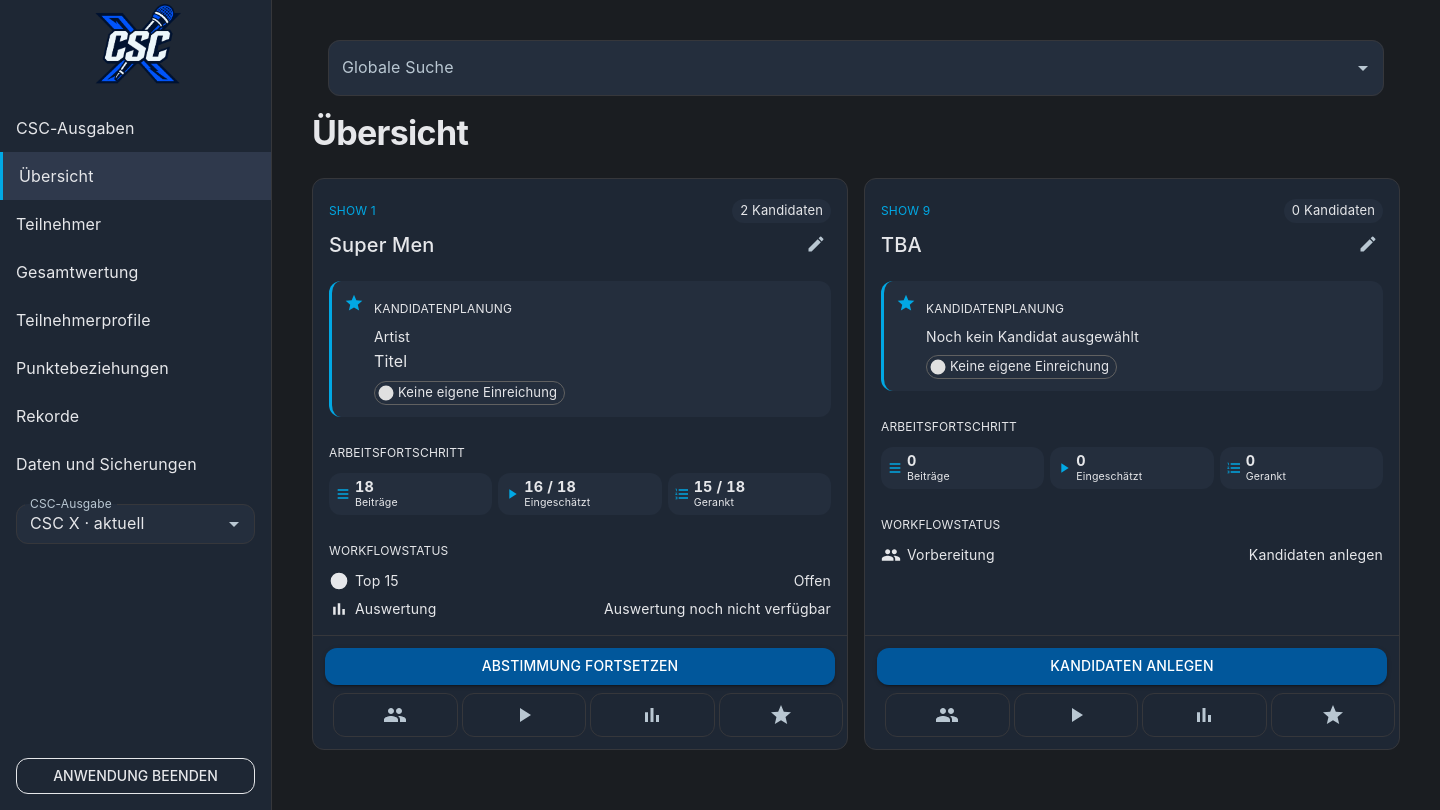
Test case: App › keeps the rename dialog open and displays structured API errors
Expected: the heading "TBA" is shown, [881,233,922,257]
Click the button named "Name von Show 9 bearbeiten" at (1368, 244), box [1353,229,1383,259]
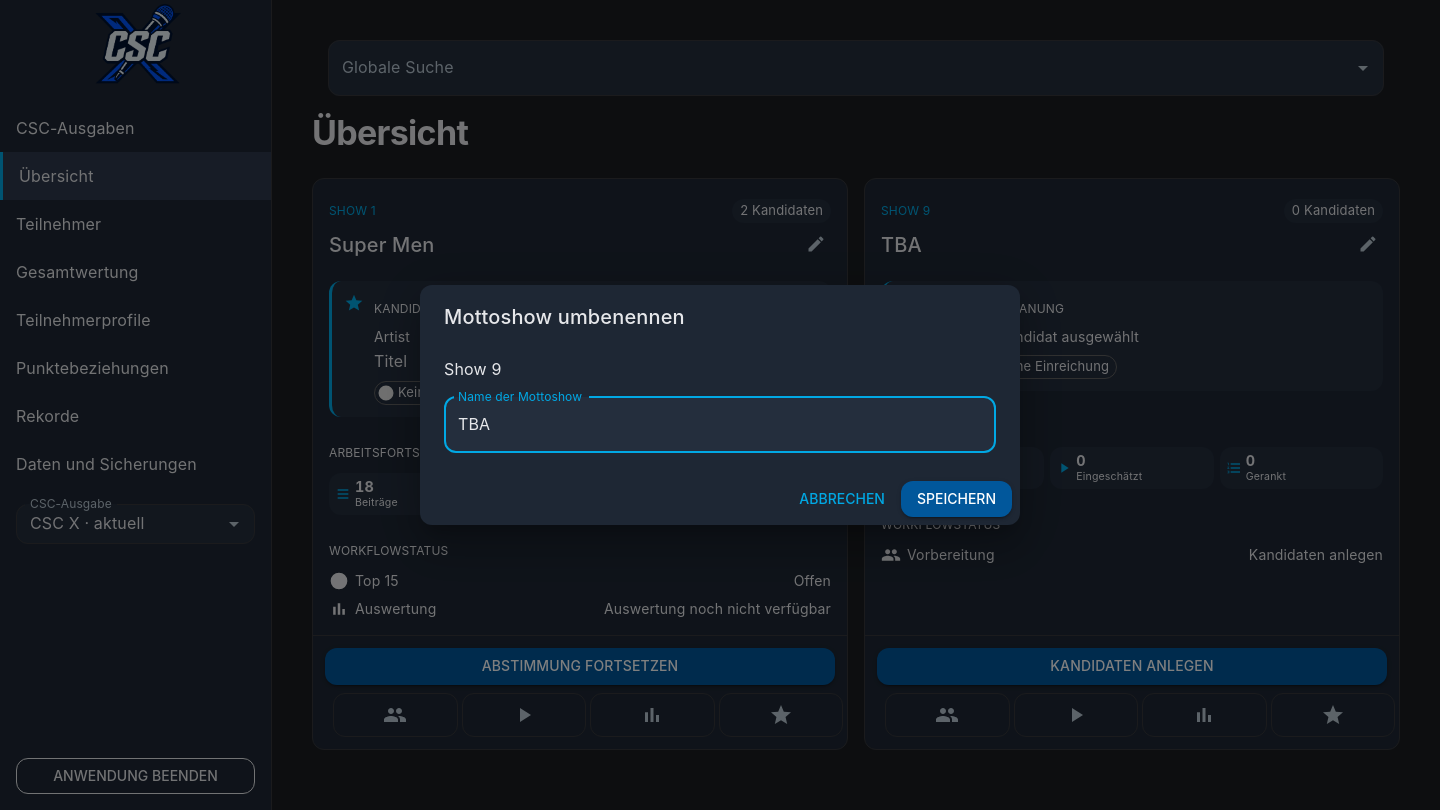
Clear the field labelled "Name der Mottoshow" at (720, 425), box [444,397,996,453]
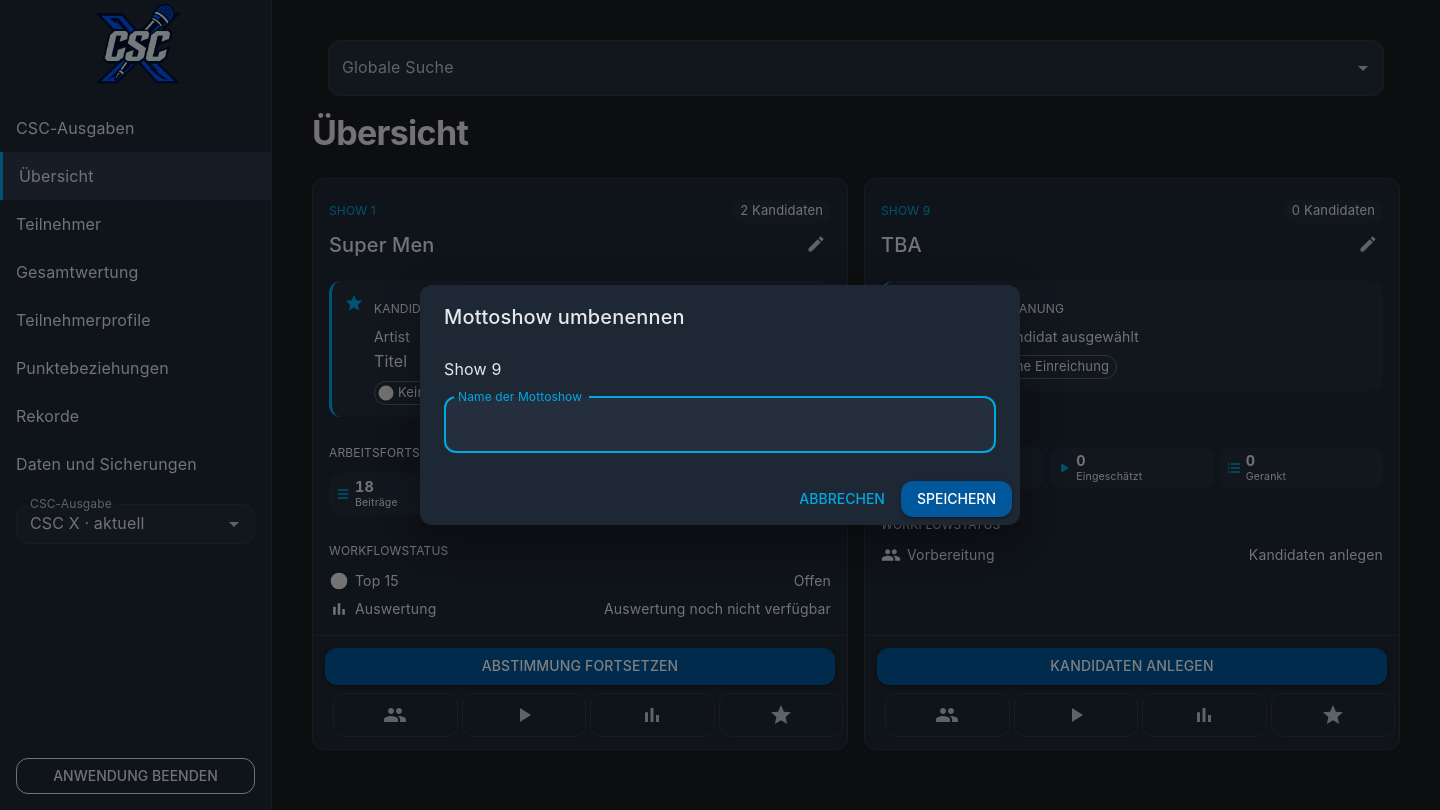
Click the button "Speichern" at (956, 499), box [901,481,1012,517]
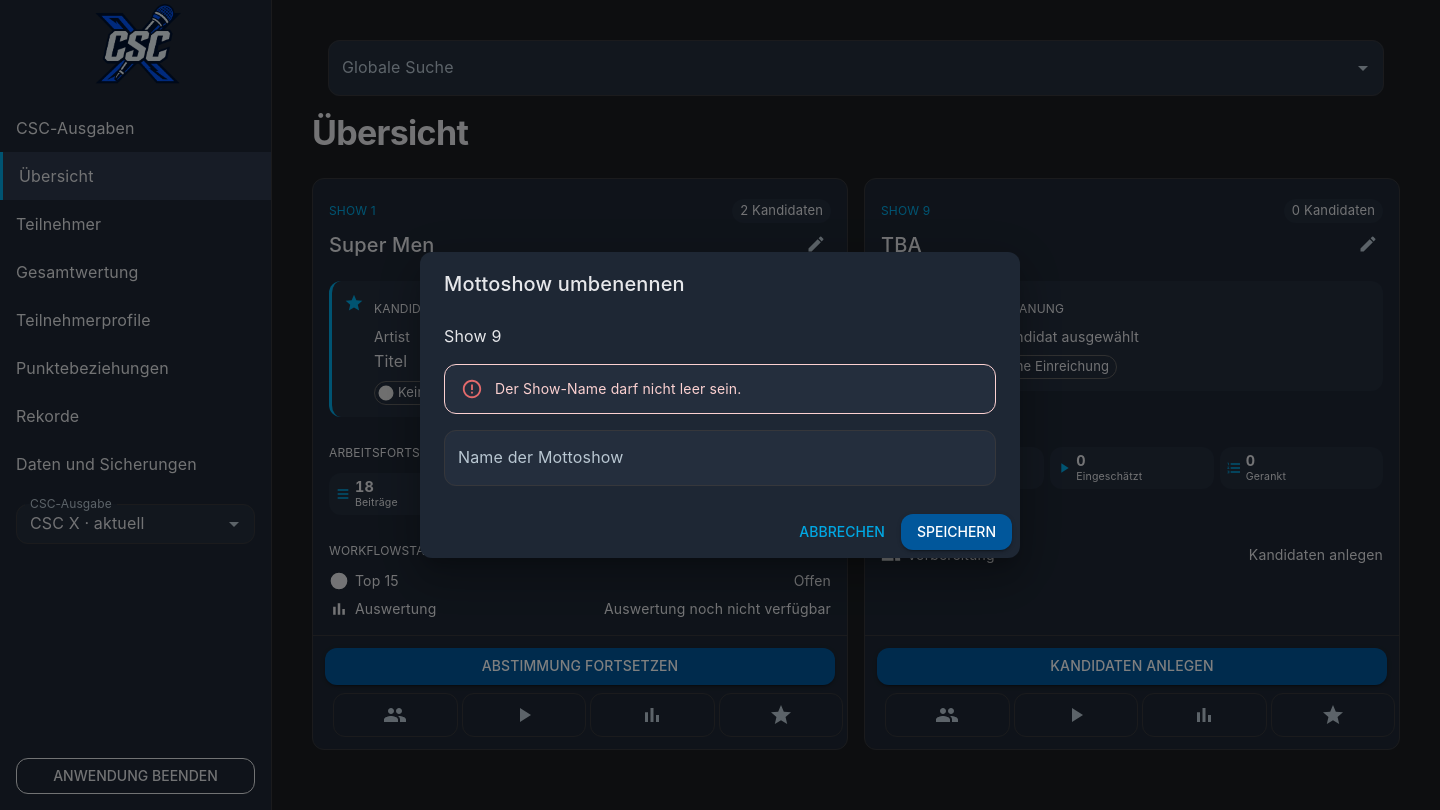
Result: the dialog is shown at [420,252,1020,558]
Result: the message reads "Der Show-Name darf nicht leer sein." at [495,380,742,397]
